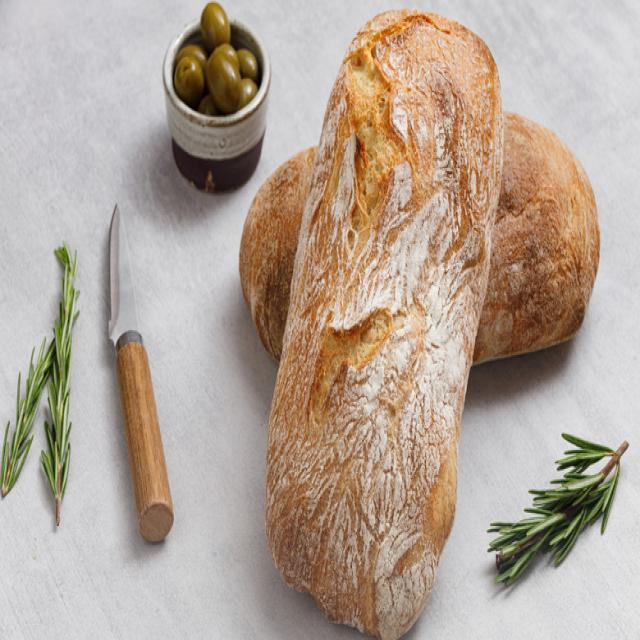Ciabatta: (266, 12, 503, 639), (473, 114, 599, 364), (240, 146, 317, 359)
